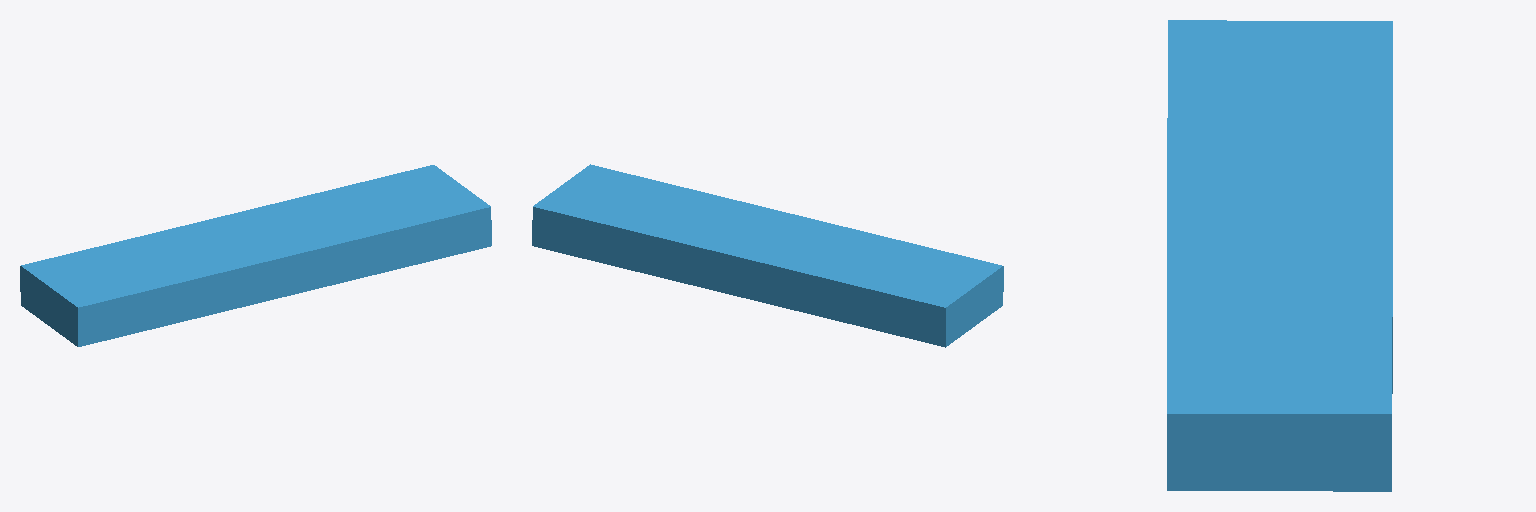
The robot description file, URDF, robot "key":
<?xml version="1.0"?>
<robot name="key">
  <link name="world" />

  <link name="key">
    <visual>
      <geometry>
	<mesh filename="package://lock_key/mesh/key.STL" />
      </geometry>
      <!--Need to create my own mesh files-->
    </visual>
    <collision>
      <geometry>
	<mesh filename="package://lock_key/mesh/key.STL" />
      </geometry>
    </collision>
    <!-- PLACEHOLDER VALUES -->
    <inertial>
      <mass value="0.1" />
      <inertia ixx="0.1" ixy="0.1" ixz="0.1"
	       iyy="0.1" iyz="0.1"
	       izz="0.1" />
    </inertial>
  </link>
  <gazebo reference = "key">
  <material> Gazebo/Blue</material>
  </gazebo>
  <joint name="table_key" type="floating">
    <origin rpy="1.57 0 1.57" xyz="-0.32  0.15 0" />
    <parent link="world" />
    <child link="key" />
  </joint>

</robot>

--- Render facts (derived) ---
Views: 3 orthographic renders of the robot side by side, from view 1: azimuth 30°, elevation 25°; view 2: azimuth 150°, elevation 25°; view 3: azimuth 270°, elevation 25°.
Robot: key — 2 links, 1 joints (1 floating); root link world; default pose: all joints at 0.
Visible links, largest first — view 1: key; view 2: key; view 3: key.
Boxes of the visible links, x1,y1,x2,y2 form: key: (20,165,491,346); key: (532,164,1003,347); key: (1167,20,1392,491).
Size in the robot's own frame: 0.06 by 0.0145 by 0.0055 metres.
Meshes: 1 distinct files referenced, 1 mesh visuals loaded (1 binary STL).